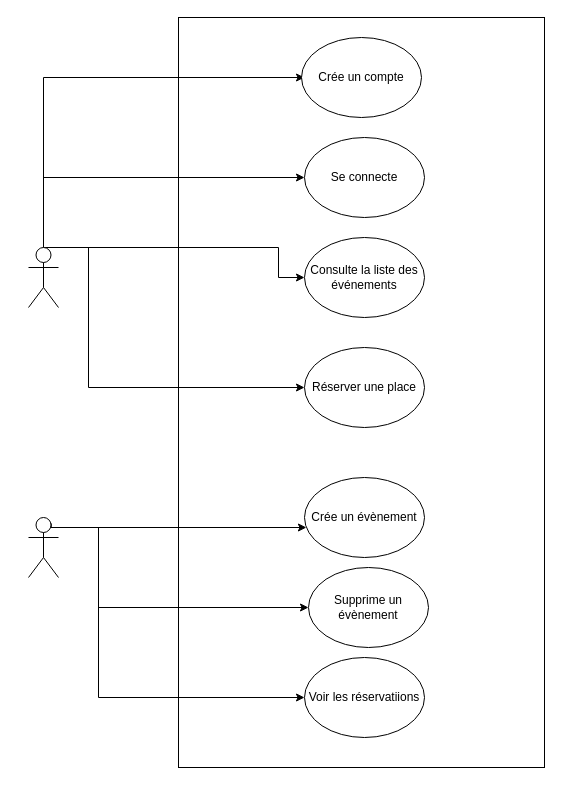
This 562x785 diagram has some shape labels left out. Here are the shapes that lost their labels. From the top down, the centre of each, then its label:
[43,277]: Utilisateur
[43,547]: Admin
